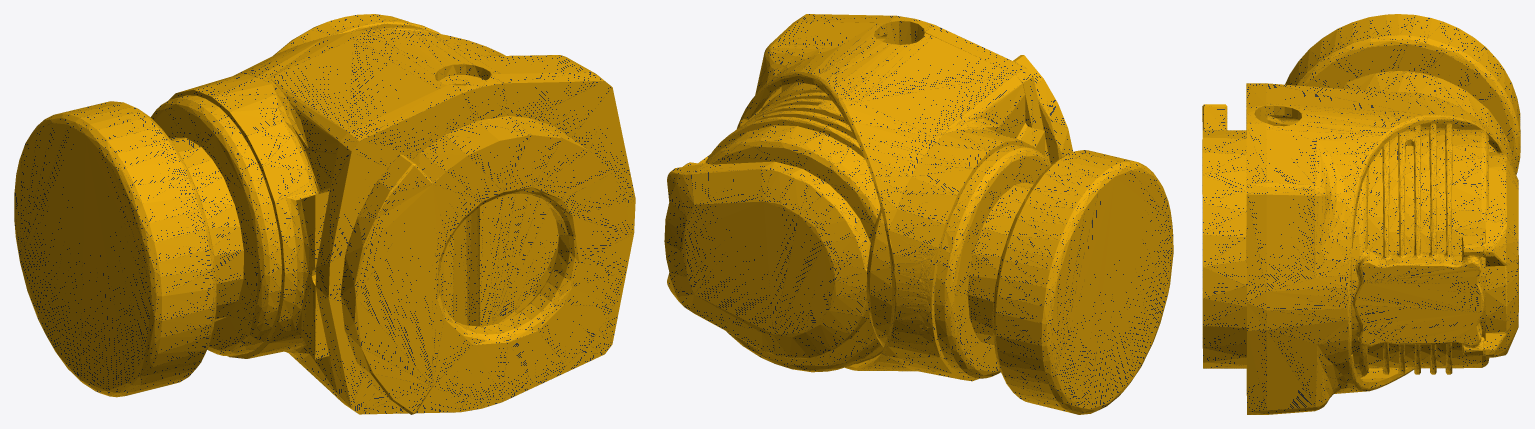
The model's file is front_right_hip.obj.
3 renders of one model, left to right at view 1: azimuth 30°, elevation 25°; view 2: azimuth 150°, elevation 25°; view 3: azimuth 270°, elevation 25°, orthographic. The views are drawn at different scales.
Parts seen in each view (by area): view 1: front_right_hip; view 2: front_right_hip; view 3: front_right_hip.
Boxes of the visible parts, x1=… form: front_right_hip: x1=14, y1=14, x2=635, y2=414; front_right_hip: x1=664, y1=14, x2=1173, y2=414; front_right_hip: x1=1202, y1=14, x2=1520, y2=414.
Bounding box in the file's own units: 0.1417 × 0.0941 × 0.1.
